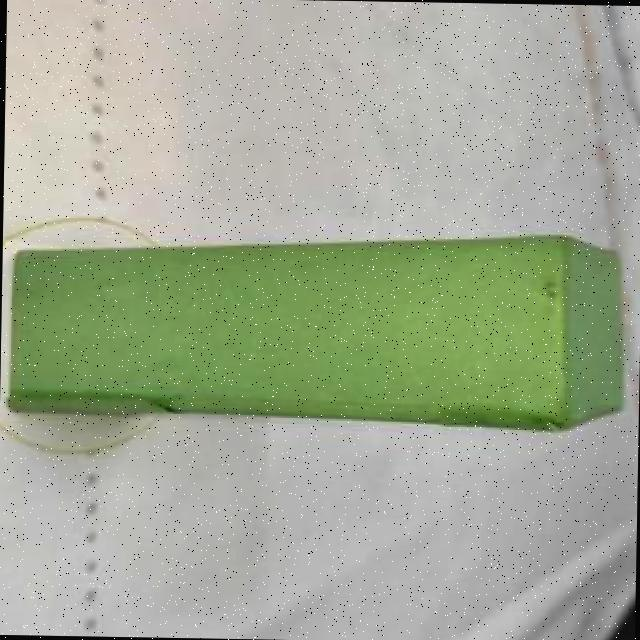greenbox: (5, 223, 632, 434)
